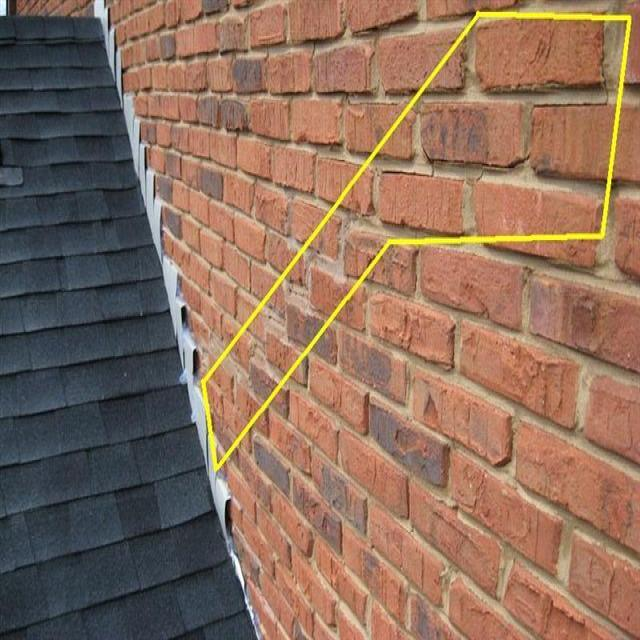Crack: (379, 29, 611, 179)
